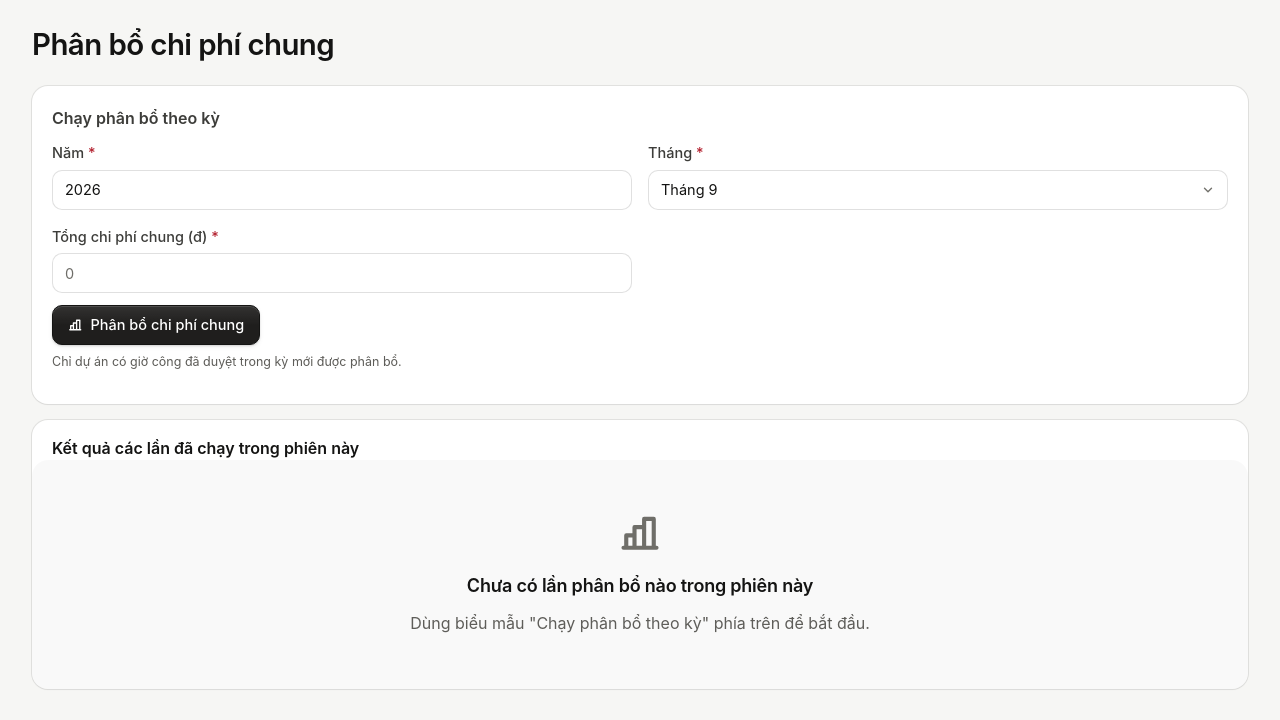
it: OverheadAllocationPage (NCL-08-CN-005 — Phân bổ chi phí chung cho dự án) › hiển thị lỗi khi kỳ đã được phân bổ trước đó (DUPLICATE_DATA)
The image size is (1280, 720).
Type "1000000" into the number field with test id "overhead-amount-input". click: [342, 273]
box: [52,253,632,293]
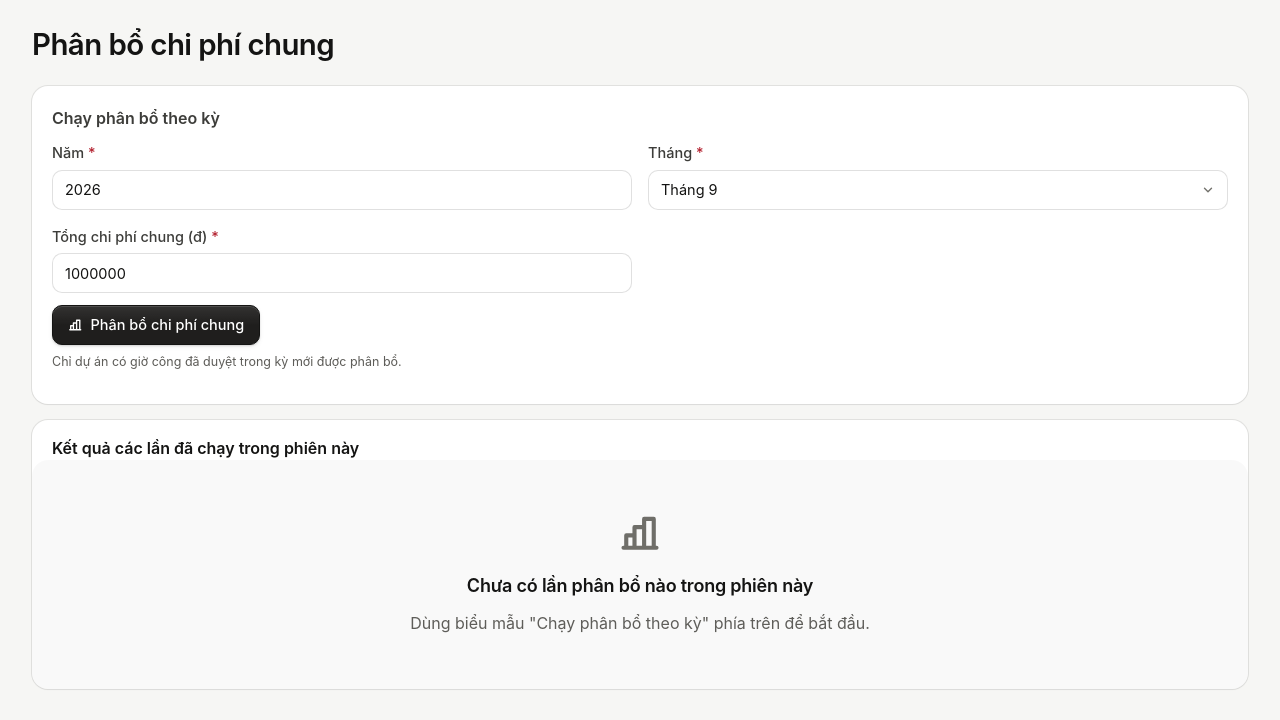
Click the button with test id "btn-run-overhead-allocation". click: [156, 325]
box: [52,305,260,345]
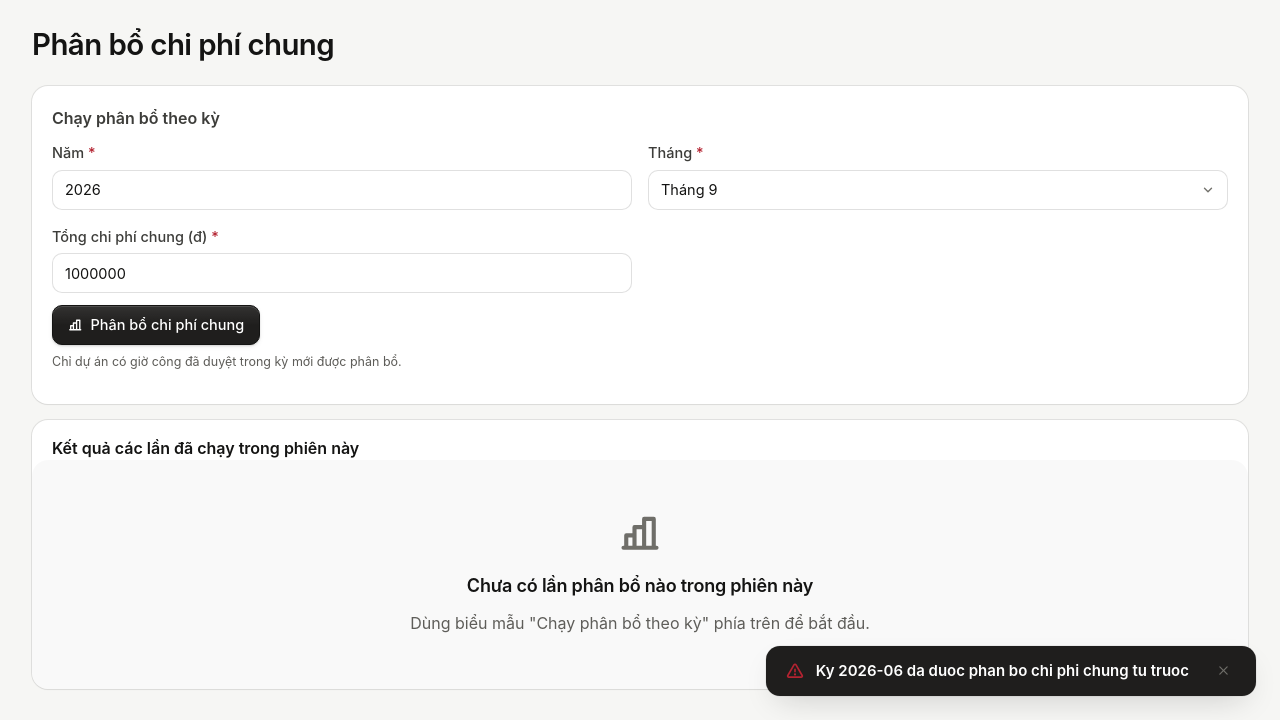
expect the element with test id "overhead-allocation-empty" is shown: met, box [32,460,1248,689]
expect the text "Ky 2026-06 da duoc phan bo chi phi chung tu truoc" is shown: met, box [816,660,1189,682]
